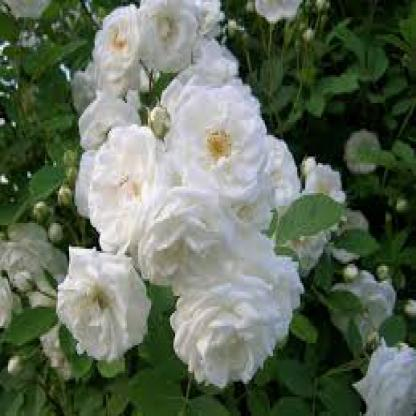Rose-Mawar: (340, 258, 415, 415)
